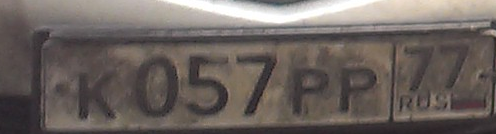character: (183, 49, 232, 124), (231, 49, 280, 118), (134, 54, 181, 123), (72, 67, 122, 128), (288, 61, 332, 118), (338, 62, 380, 116), (436, 40, 472, 92), (402, 43, 436, 94)
